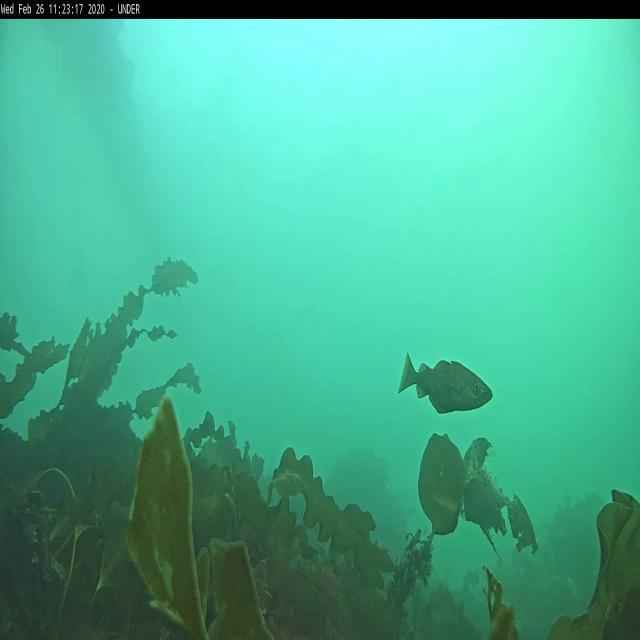fish: (399, 350, 492, 412)
